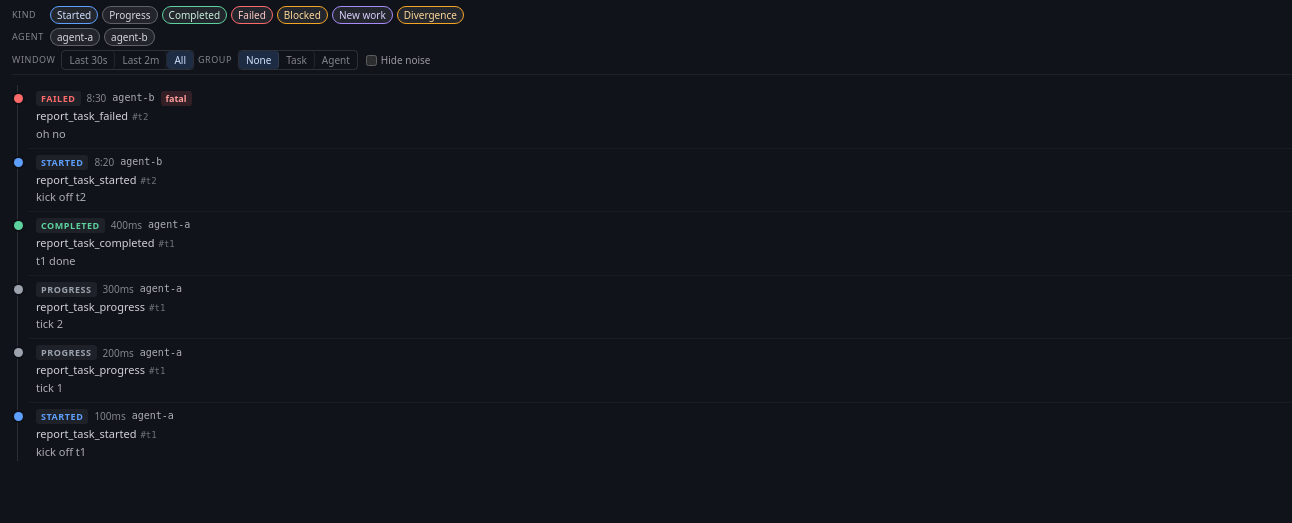
Test: <OrchestrationTimeline /> › group by agent creates a group per agent
Click the button with test id "orch-group-agent".
click(336, 60)  # box [315,51,357,69]
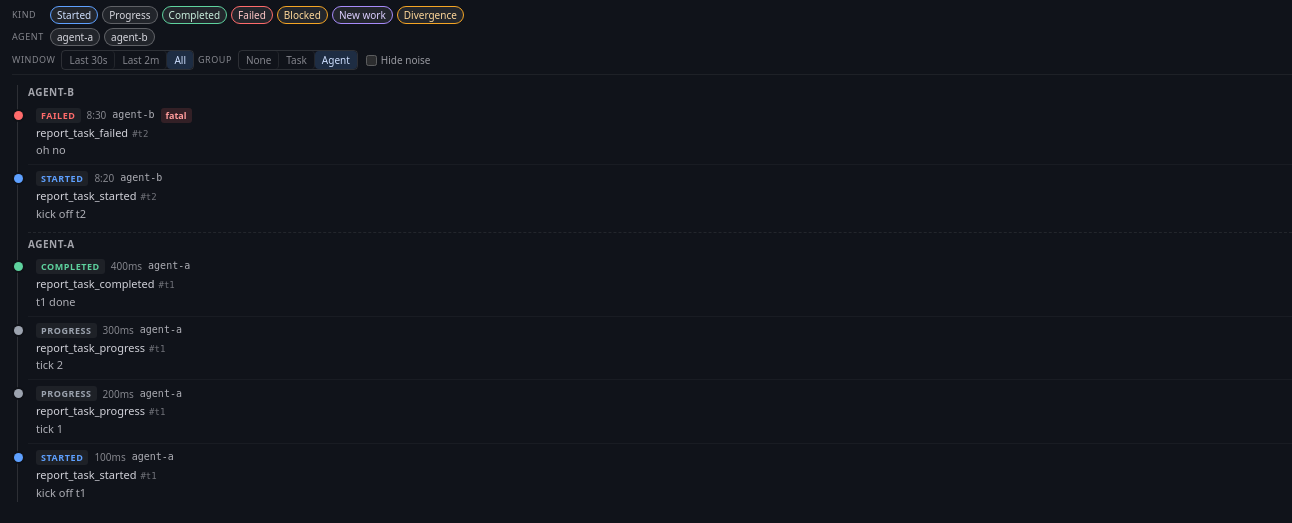
Expected: the number of elements with test id "orchestration-group" is 2, [28,85,1291,228]; [28,232,1291,506]
